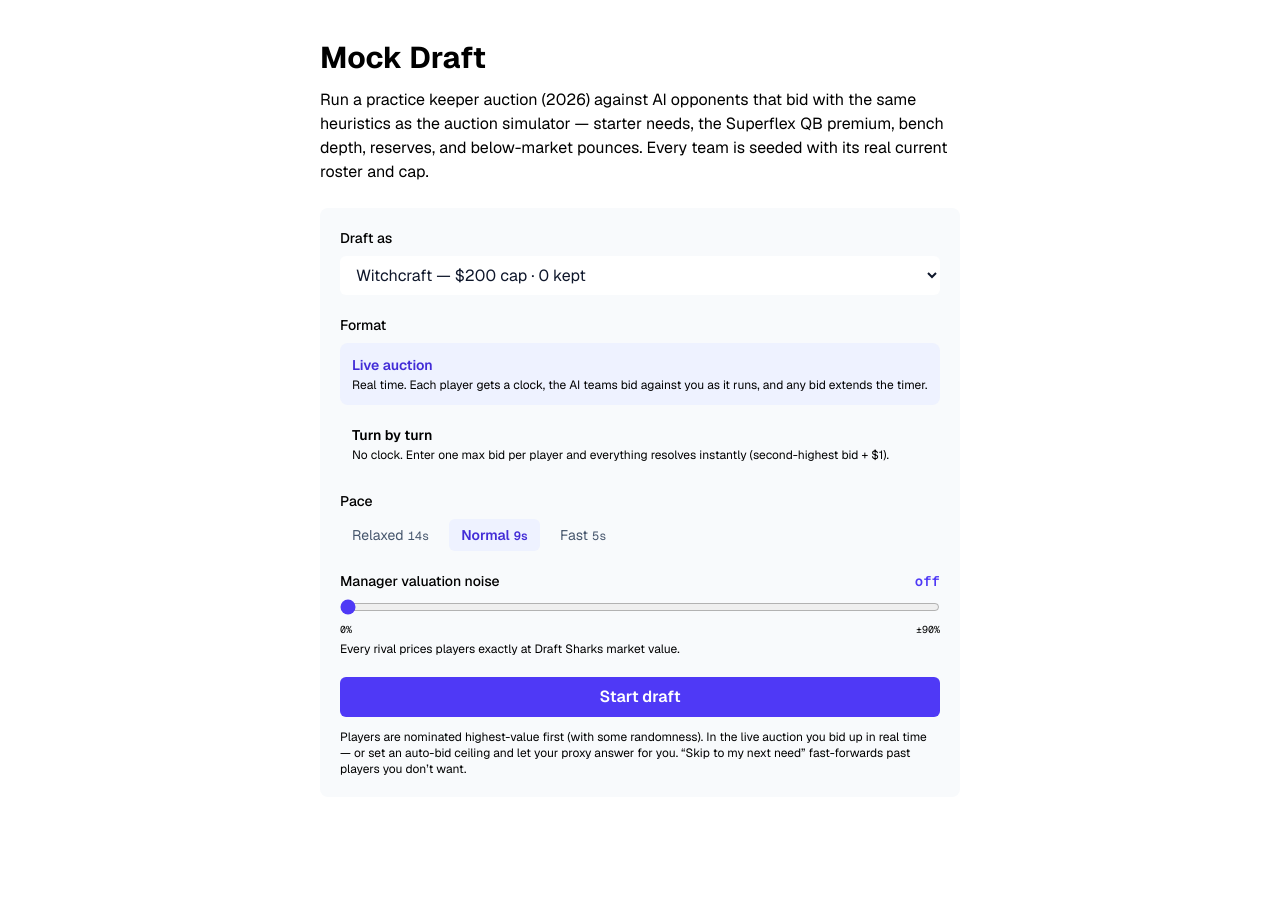
Test: MockDraftClient (live auction) › puts the user on the board when they bid
Step 1. Click the button "Start draft" → (640, 697), box [340,677,940,717]
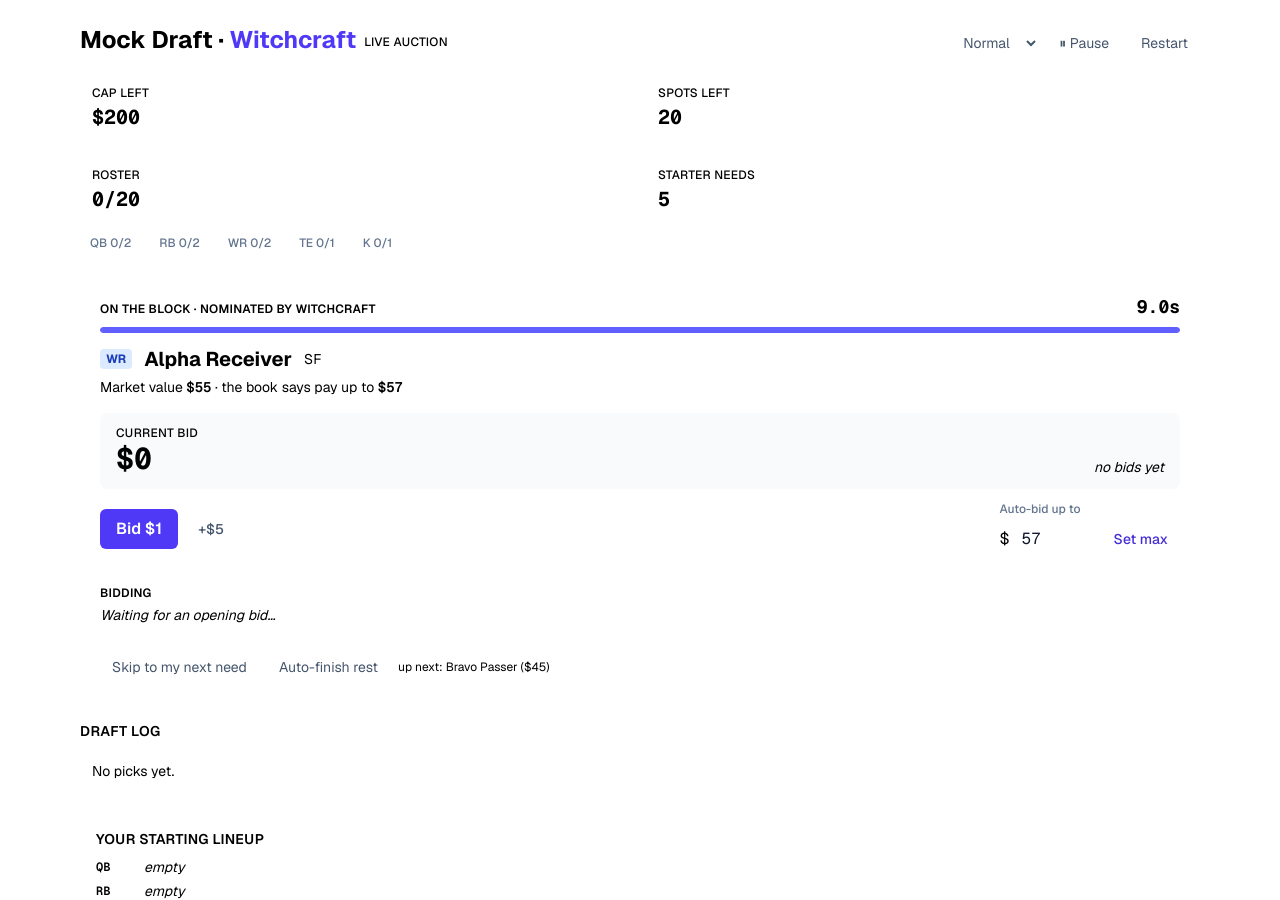
Step 2. Click the button "Bid $1" → (139, 529), box [100,509,178,549]
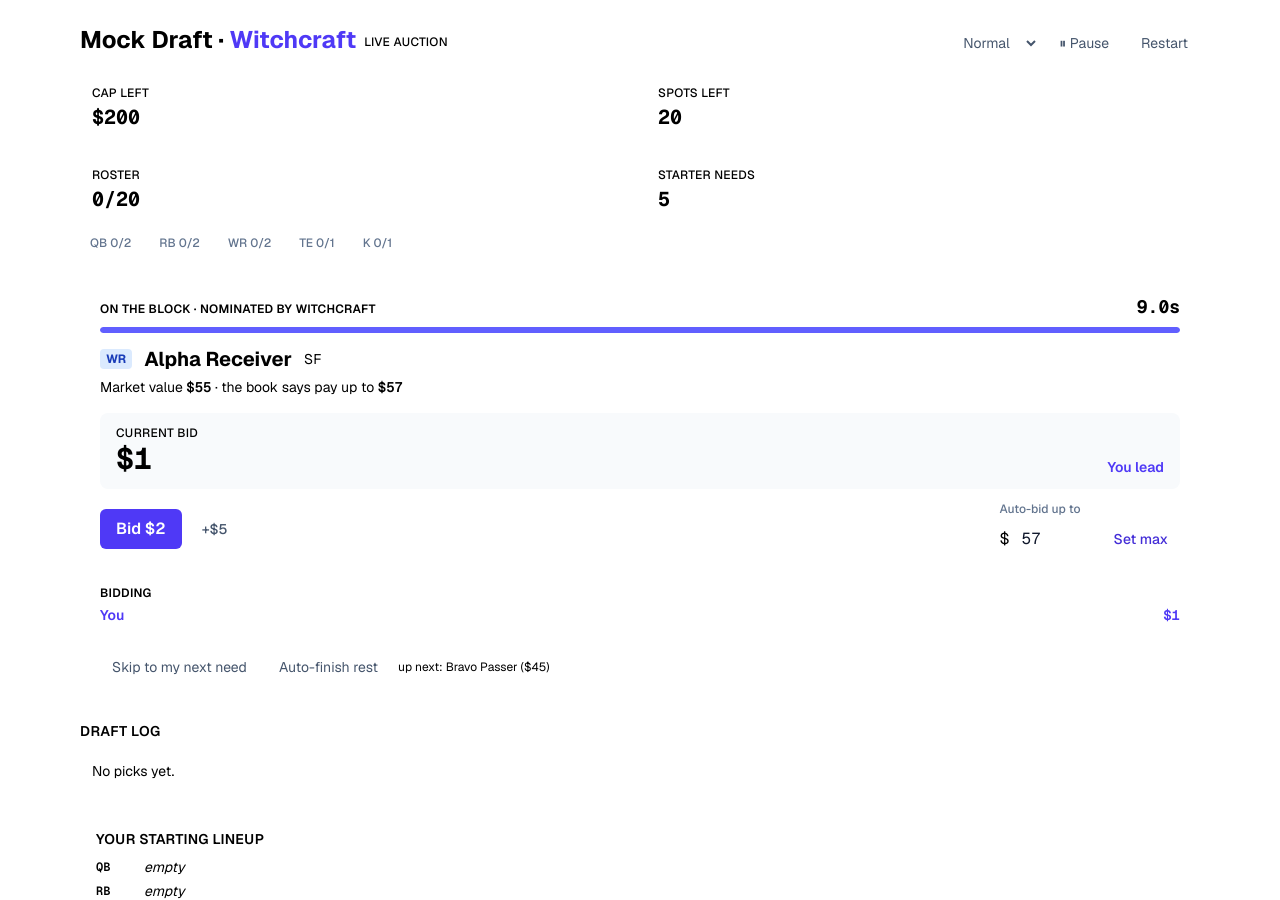
Expected: the text "You lead" is shown, [1107,458,1164,476]
